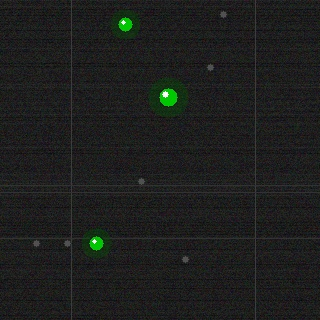green_normal: (157, 86, 179, 108), (87, 234, 105, 252), (116, 15, 134, 33)
